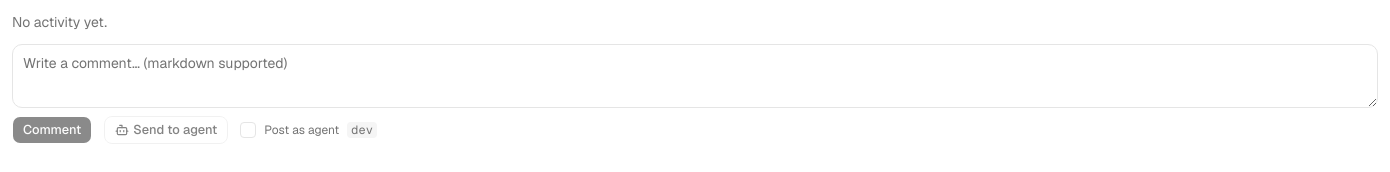
Test: submitting dispatches addComment as the person and clears
In the text box labelled "Write a comment": (695, 76) [12,44,1378,108], type "Please add tests"
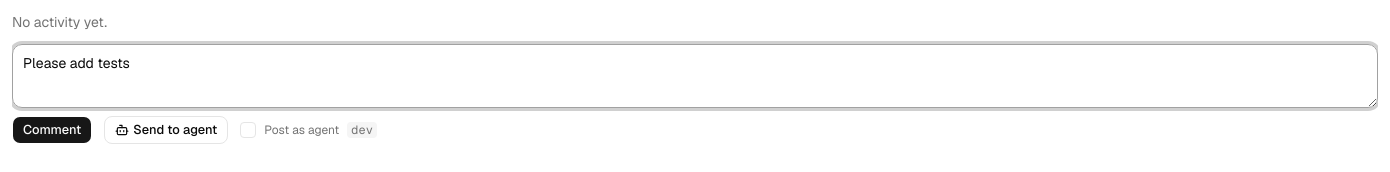
Click the button "Comment": (52, 130) [12,116,92,144]
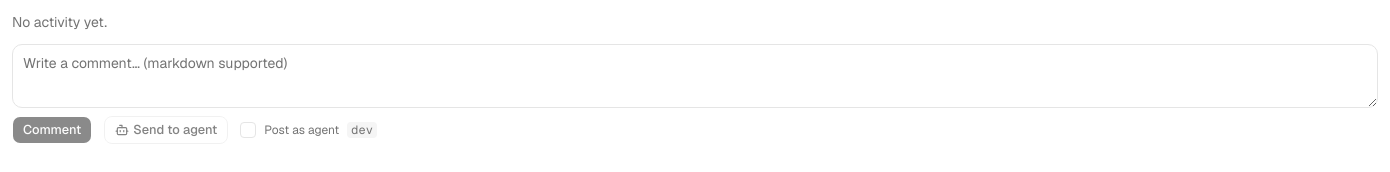
Now the text box labelled "Write a comment" is empty, box [12,44,1378,108]
